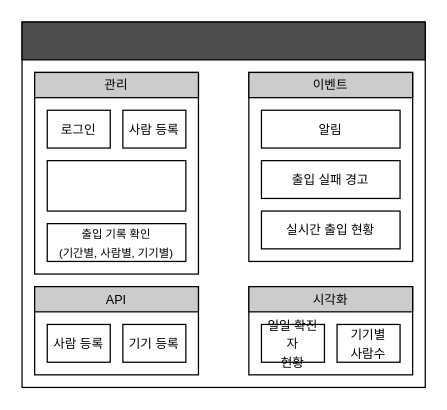
Image size: 447x410. Some labels were removed from this diagram. The shapes that lost their labels are listed below. From the top down, each one's centre as x and y in pixels, then its label:
At point (223, 40): "WAS".
At point (116, 185): "사람 정보 (출입 기록, 체온 변화 추이)".
